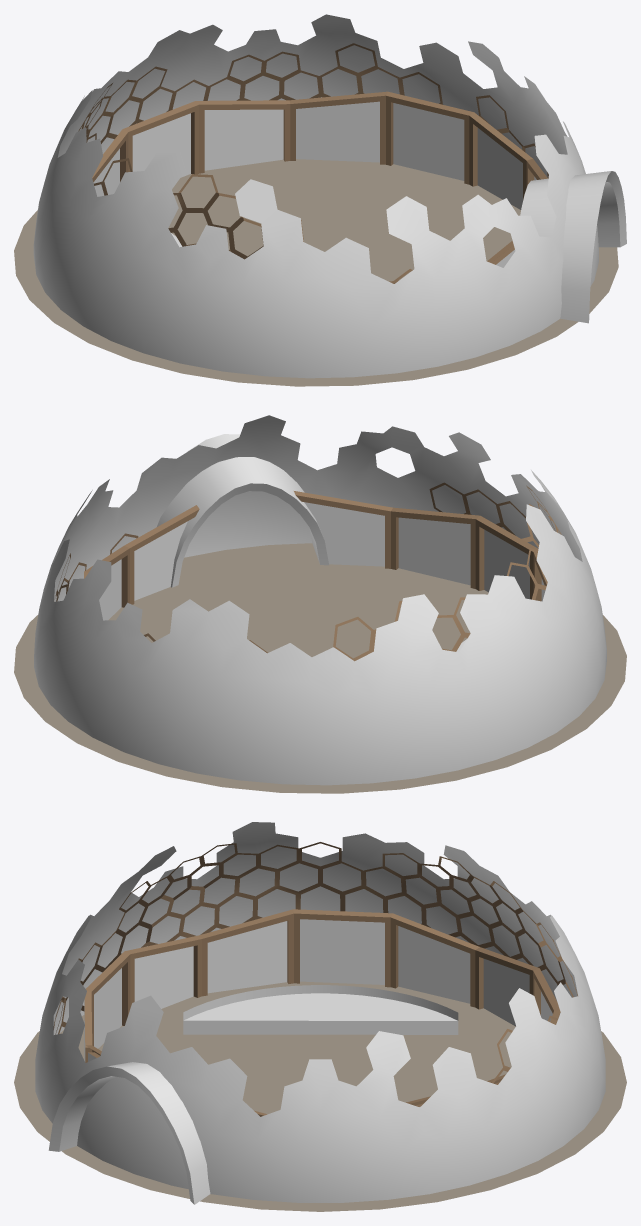
File: BOD_v4_Env.glb
The picture shows the model from 3 angles, top to bottom: view 1: azimuth 30°, elevation 25°; view 2: azimuth 150°, elevation 25°; view 3: azimuth 270°, elevation 25°; orthographic projection.
Visible parts, largest first — view 1: Dome.005, 円, 円柱.003, Gate, Dome.004; view 2: Dome.005, 円, 円柱.003, Gate, Dome.004; view 3: Dome.005, 円柱.003, 円, Stage, Dome.004, Gate.
Boxes of the visible parts, x1=… form: Dome.005: x1=33, y1=14, x2=598, y2=378; 円: x1=14, y1=159, x2=618, y2=386; 円柱.003: x1=92, y1=91, x2=547, y2=283; Gate: x1=520, y1=171, x2=626, y2=323; Dome.004: x1=78, y1=43, x2=548, y2=283; Dome.005: x1=34, y1=415, x2=606, y2=785; 円: x1=14, y1=543, x2=626, y2=793; 円柱.003: x1=84, y1=491, x2=547, y2=620; Gate: x1=157, y1=434, x2=328, y2=587; Dome.004: x1=54, y1=482, x2=561, y2=661; Dome.005: x1=35, y1=822, x2=605, y2=1202; 円柱.003: x1=84, y1=909, x2=560, y2=1116; 円: x1=14, y1=981, x2=626, y2=1211; Stage: x1=183, y1=985, x2=458, y2=1034; Dome.004: x1=53, y1=842, x2=577, y2=1083; Gate: x1=48, y1=1062, x2=210, y2=1204.
Bounding box in the file's own units: 2 × 0.6359 × 2.
